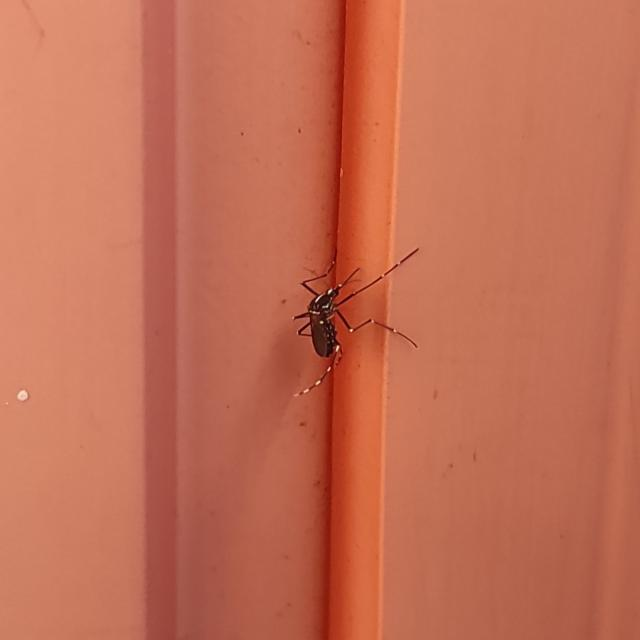albopictus: (274, 244, 430, 406)
